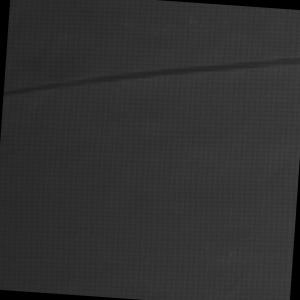Wrinkle: (4, 31, 300, 122)
